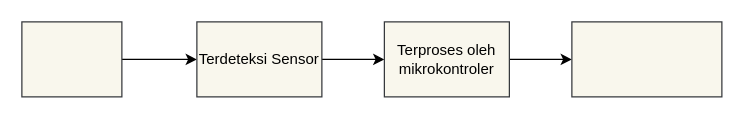
Some shapes in this 744 by 119 pixel diagram are drawn without their labels. Here are the shapes that lost their labels. From the top down, the box of each, then its label:
(21, 21, 122, 97): Objek
(571, 21, 722, 97): Menampilkan informasi ketersediaan slot parkir
